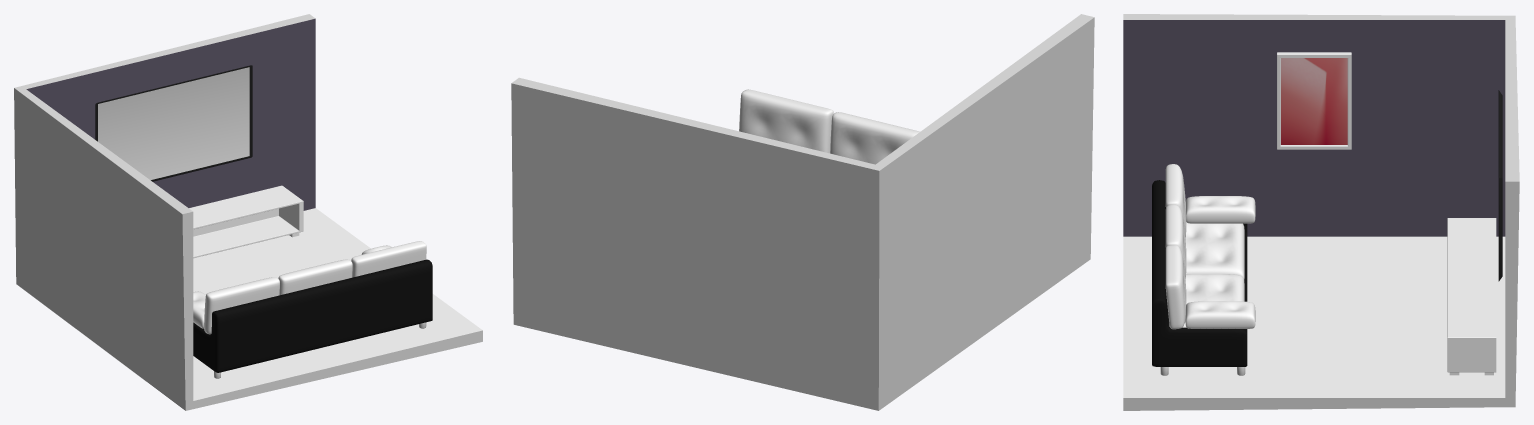
File: habitacion.glb
3 renders of one model, left to right at view 1: azimuth 30°, elevation 25°; view 2: azimuth 150°, elevation 25°; view 3: azimuth 270°, elevation 25°, orthographic. The views are drawn at different scales.
Visible parts, largest first — view 1: walls, sofa, tv, table, Plane.004, Plane.006, Plane.005; view 2: walls, Plane.006, Plane.005; view 3: walls, table, Plane.001, sofa, Plane.002, Plane.008, Plane.007, Plane.003, Plane.006, tv, Plane.005, Plane.004.
Boxes of the visible parts, x1,y1,x2,y2 form: walls: (14,14,482,410); sofa: (193,259,432,372); tv: (95,65,252,181); table: (189,185,303,258); Plane.004: (204,277,279,334); Plane.006: (351,241,426,277); Plane.005: (278,259,352,295); walls: (511,14,1094,410); Plane.006: (739,89,833,153); Plane.005: (830,112,919,164); walls: (1123,14,1519,410); table: (1447,218,1496,372); Plane.001: (1277,52,1351,149); sofa: (1152,180,1247,366); Plane.002: (1185,222,1244,279); Plane.008: (1185,301,1255,328); Plane.007: (1185,196,1255,223); Plane.003: (1169,274,1244,327); Plane.006: (1165,245,1186,329); tv: (1498,90,1502,281); Plane.005: (1165,204,1186,278); Plane.004: (1165,164,1186,237).
Size of what is drawn, in the model's own units: 8.3 by 5.3 by 8.3.
Materials: 12 (1 with a texture image).
